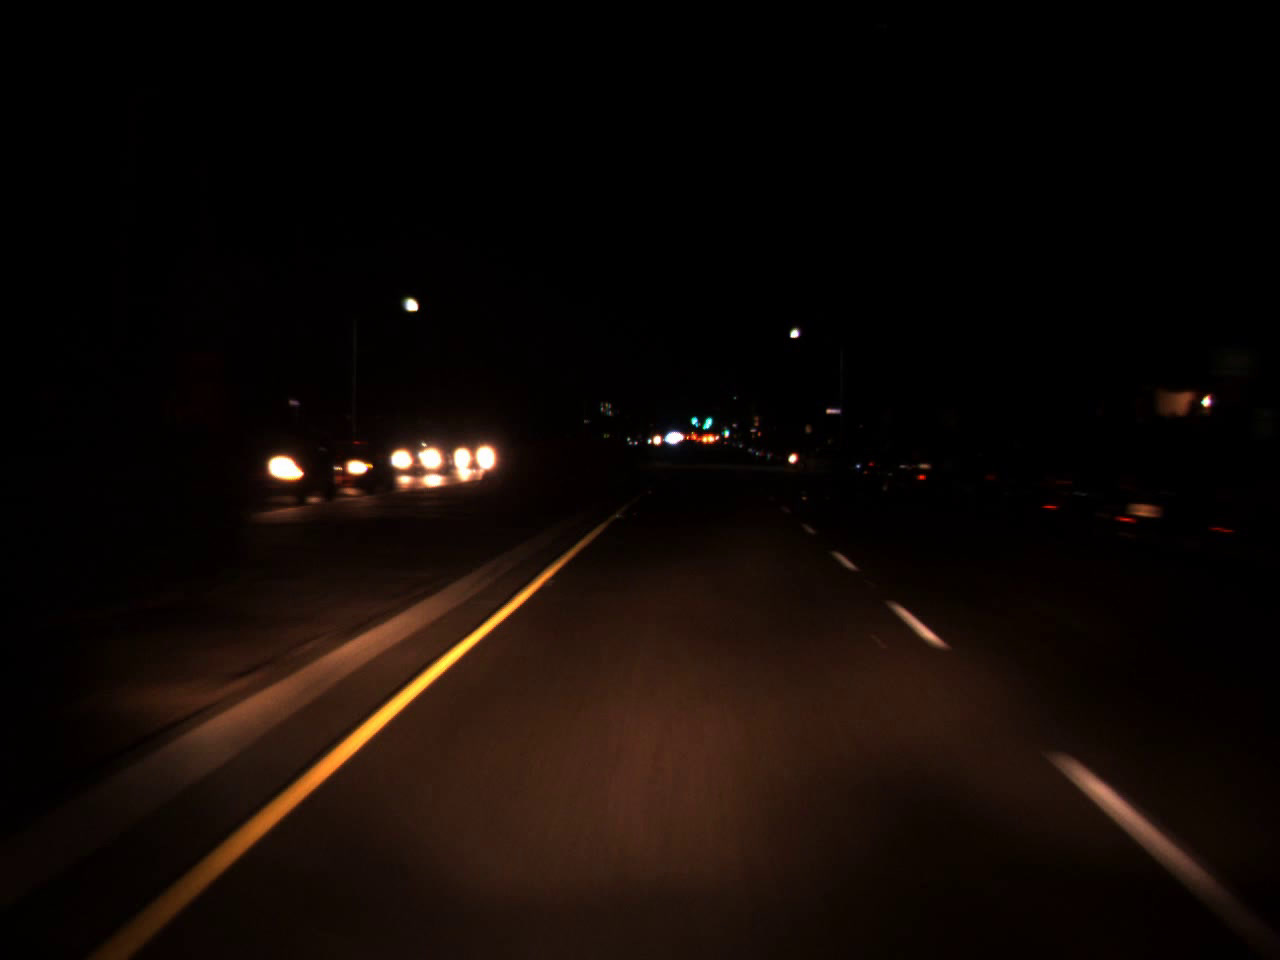go: (700, 404, 714, 431), (689, 409, 698, 427), (721, 422, 730, 437)
